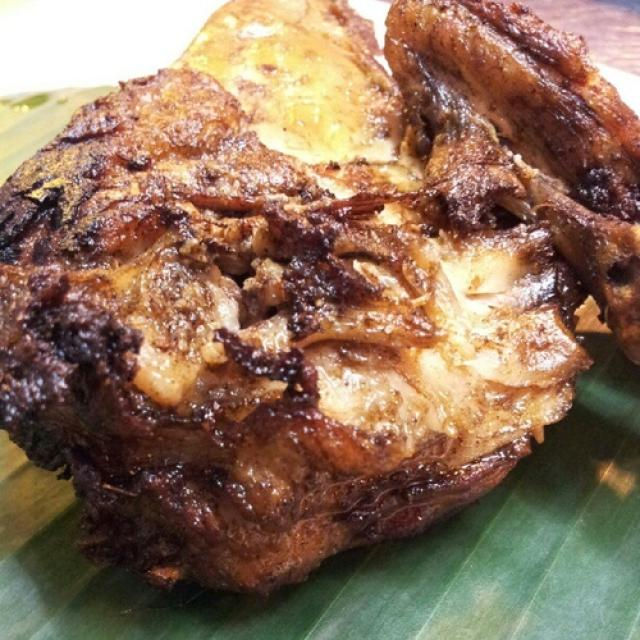鸡肉料理 含炸鸡: (22, 16, 613, 602)
